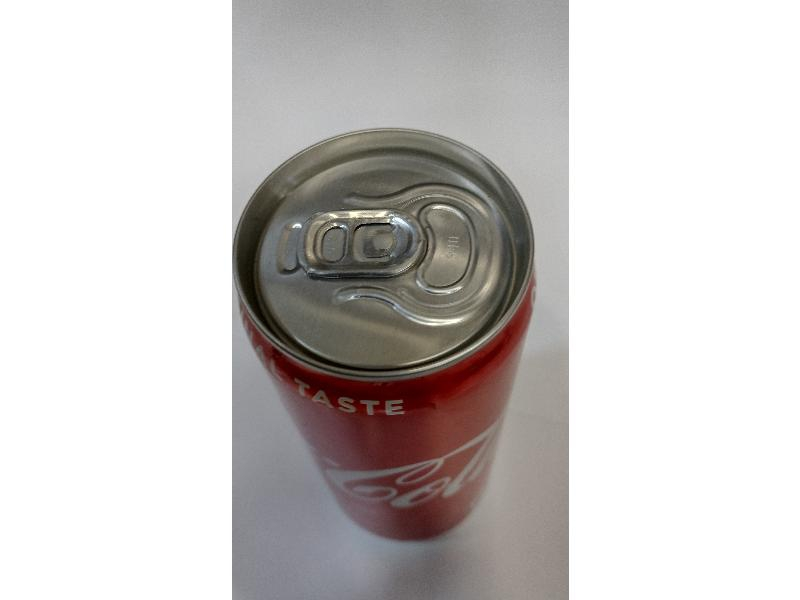can: (236, 129, 535, 547)
